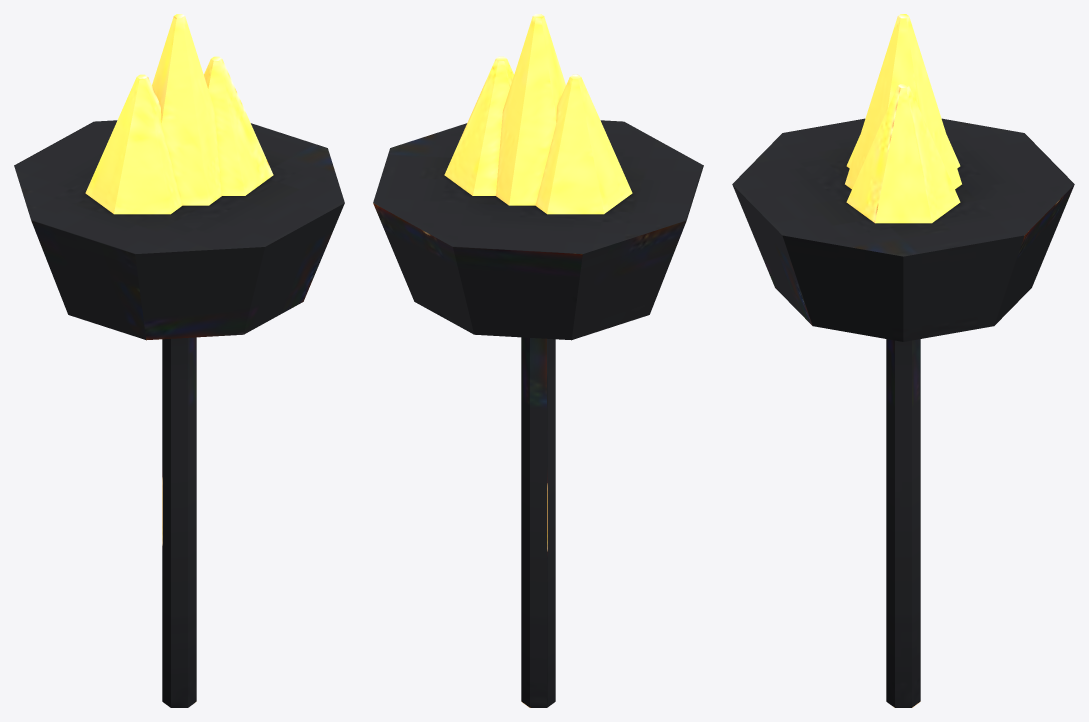
File: brasero_acera.glb
3 views of the same model, side by side, from view 1: azimuth 30°, elevation 25°; view 2: azimuth 150°, elevation 25°; view 3: azimuth 270°, elevation 25° (orthographic).
Parts seen in each view (by area): view 1: brasero_acera; view 2: brasero_acera; view 3: brasero_acera.
Part boxes in pixels (x1,y1,x2,y2): brasero_acera: (14,14,344,707); brasero_acera: (373,14,703,707); brasero_acera: (732,14,1074,707).
Size of the model in its own units: 1.2 by 2.65 by 1.2.
Materials: 1 (1 with a texture image).
